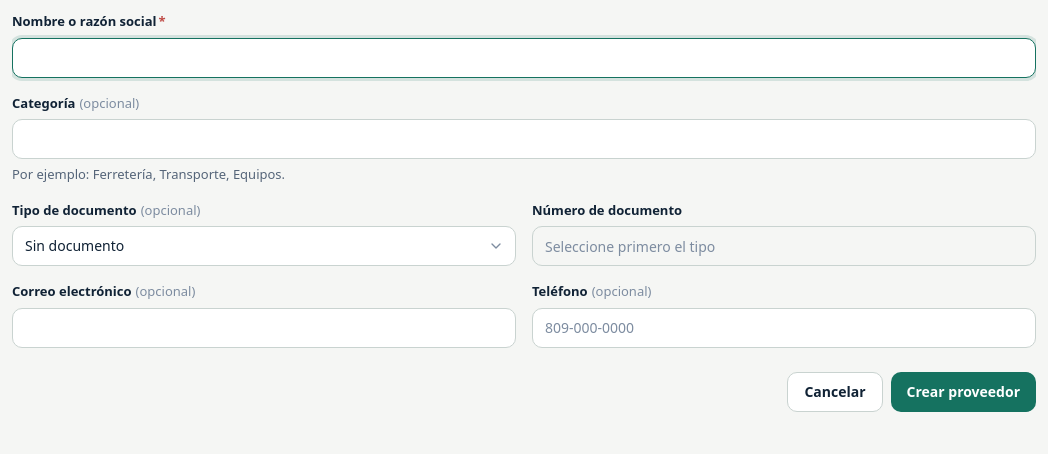
it: SupplierForm › validates the optional email only when it is filled
In the field labelled "Nombre o razón social*": (524, 58) 12,38 -> 1036,78, type "Transporte Rápido"
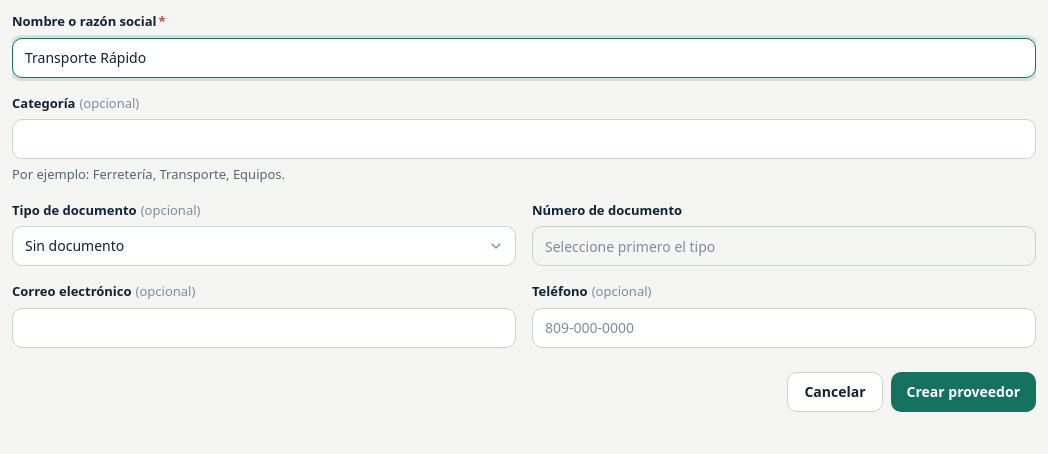
In the field labelled "Correo electrónico(opcional)": (264, 328) 12,308 -> 516,348, type "ventas@"
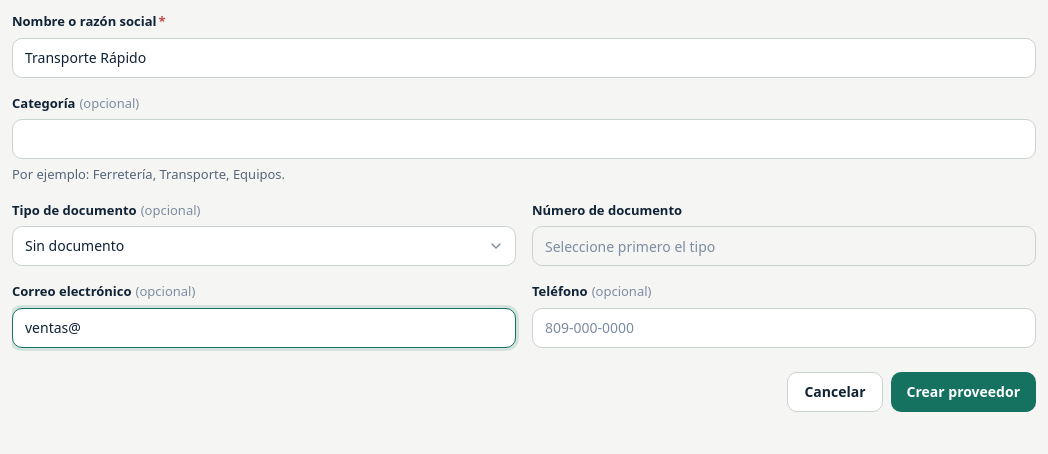
Click the button "Crear proveedor": (963, 392) 890,372 -> 1036,412
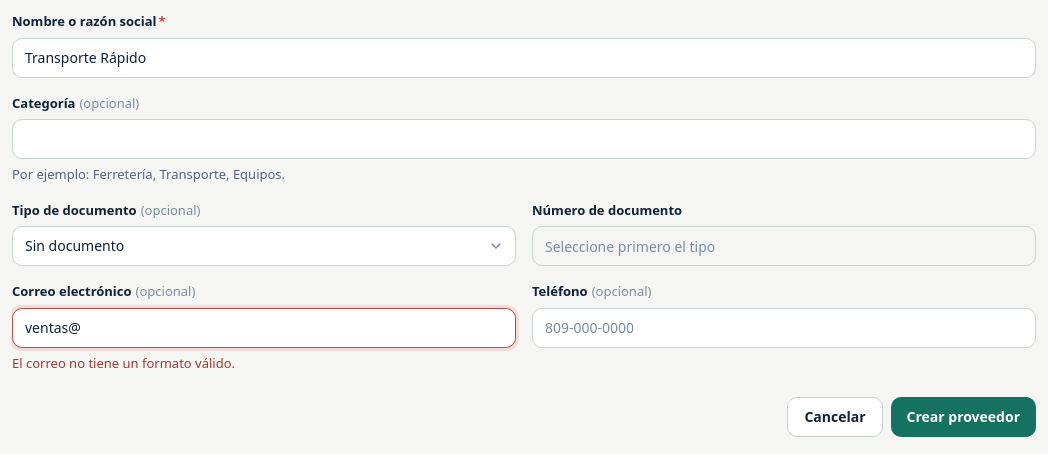
Result: the text "El correo no tiene un formato válido." is shown at 12,354 -> 235,372
